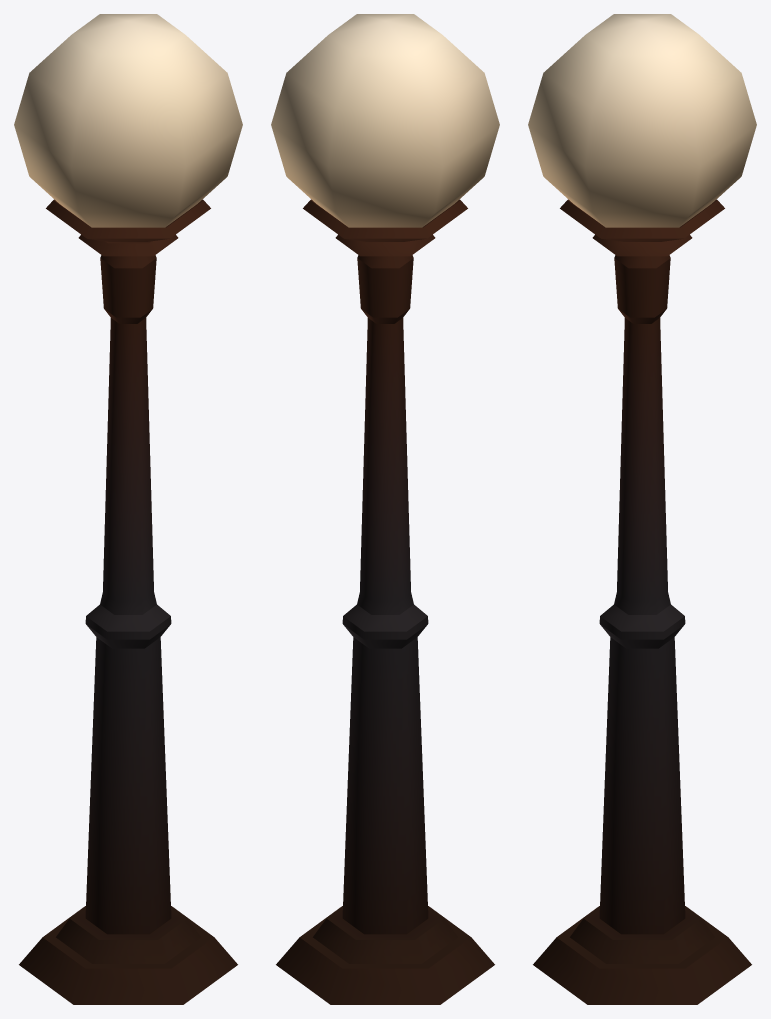
The model's file is Street_Lamp_2.fbx.
3 views of the same model, side by side, from view 1: azimuth 30°, elevation 25°; view 2: azimuth 150°, elevation 25°; view 3: azimuth 270°, elevation 25° (orthographic).
Parts seen in each view (by area): view 1: Cylinder.017, Sphere; view 2: Cylinder.017, Sphere; view 3: Cylinder.017, Sphere.
Boxes of the visible parts, x1=… form: Cylinder.017: x1=19, y1=199, x2=237, y2=1004; Sphere: x1=14, y1=14, x2=242, y2=227; Cylinder.017: x1=276, y1=199, x2=494, y2=1004; Sphere: x1=271, y1=14, x2=499, y2=227; Cylinder.017: x1=533, y1=199, x2=751, y2=1004; Sphere: x1=528, y1=14, x2=756, y2=227.
Size of the model in its own units: 78.66 by 413 by 90.83.
